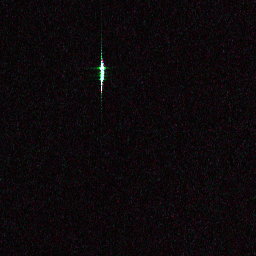ship: (98, 60, 106, 83)
